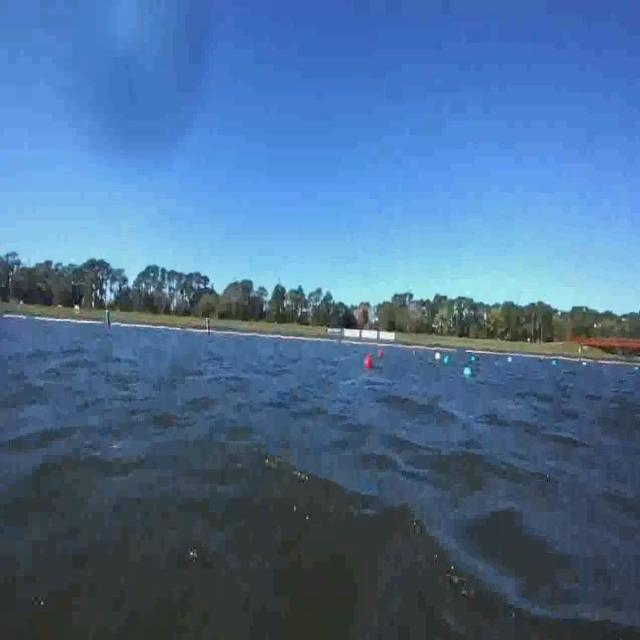green-buoy: (463, 368, 471, 376)
red-buoy: (364, 354, 372, 371)
